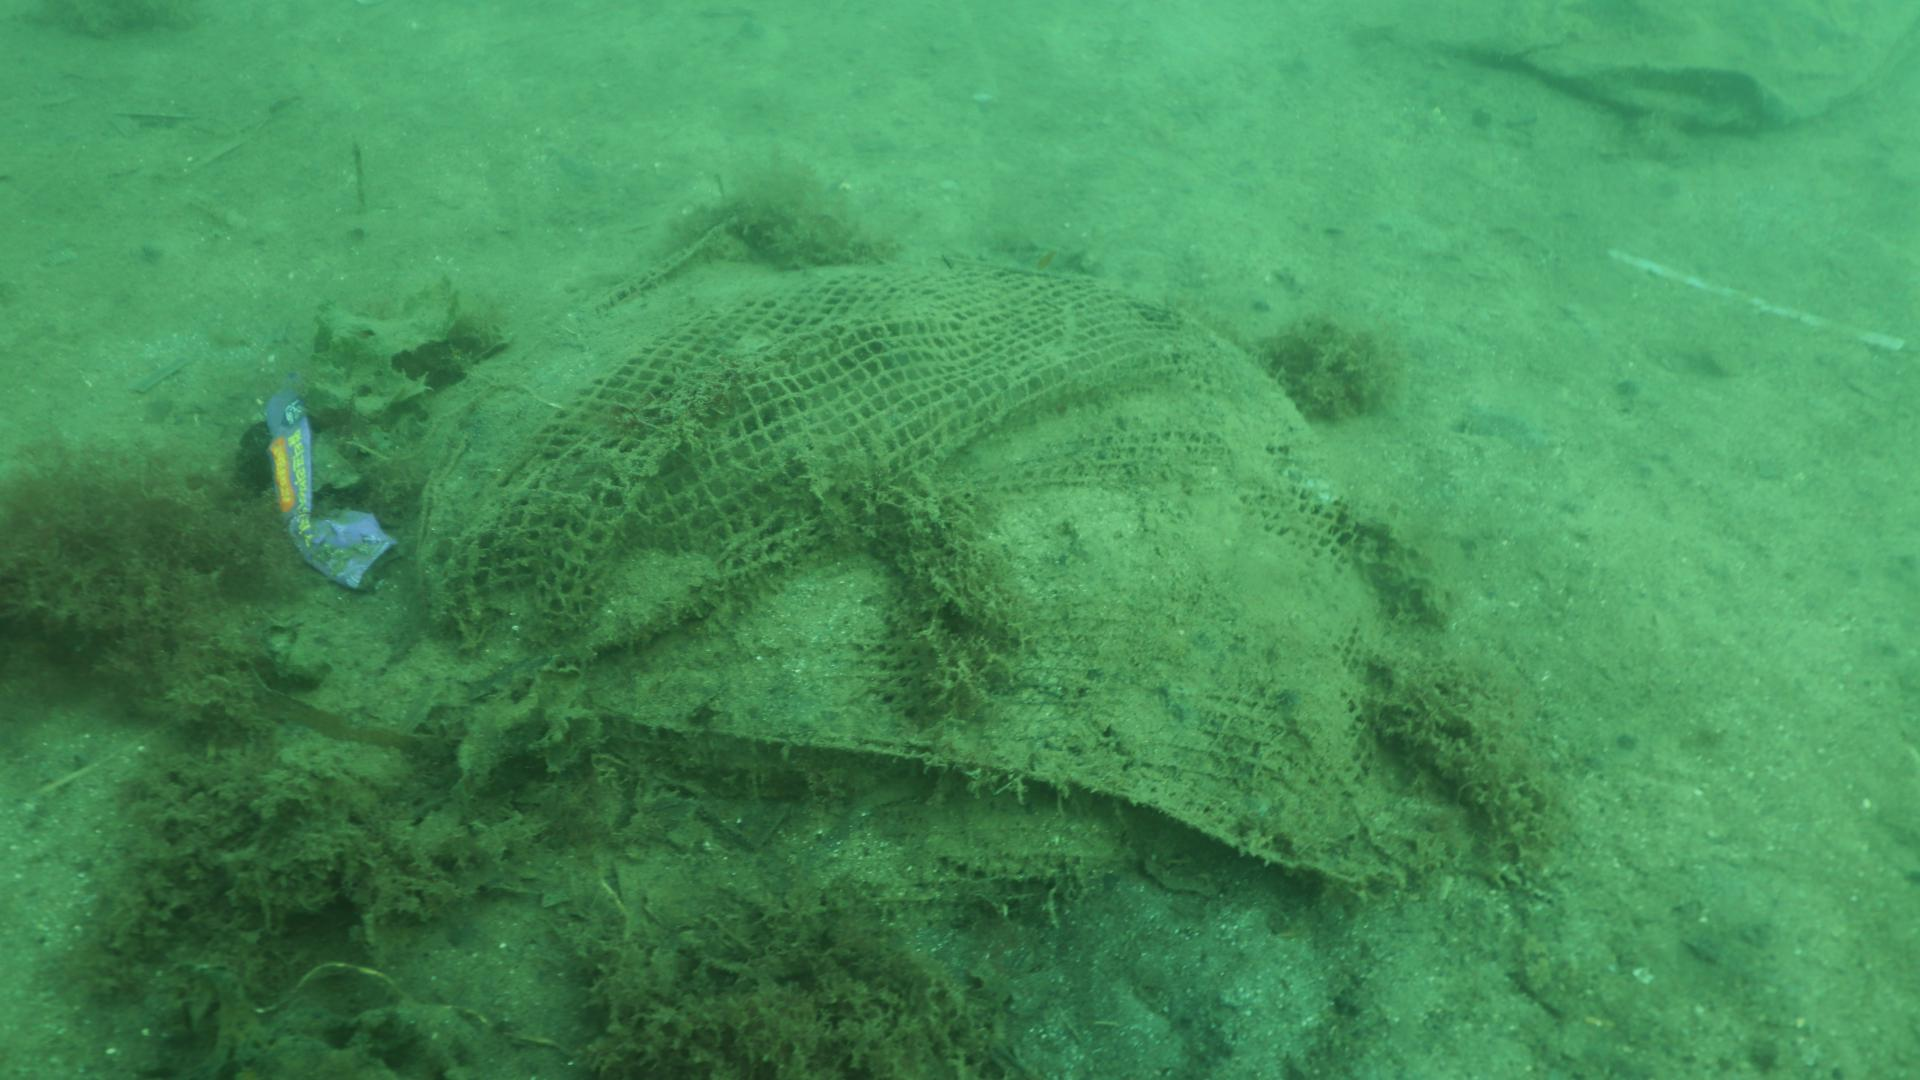fish net: (436, 269, 1396, 884)
